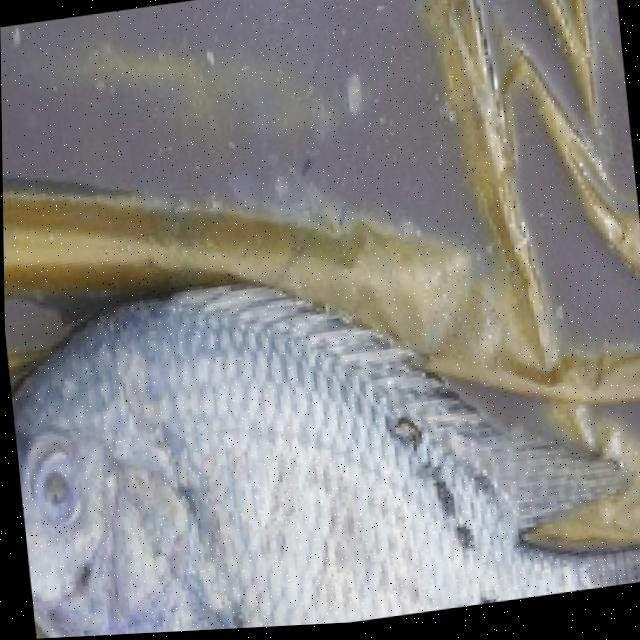Non-Fresh: (119, 336, 515, 635), (16, 445, 120, 553)
